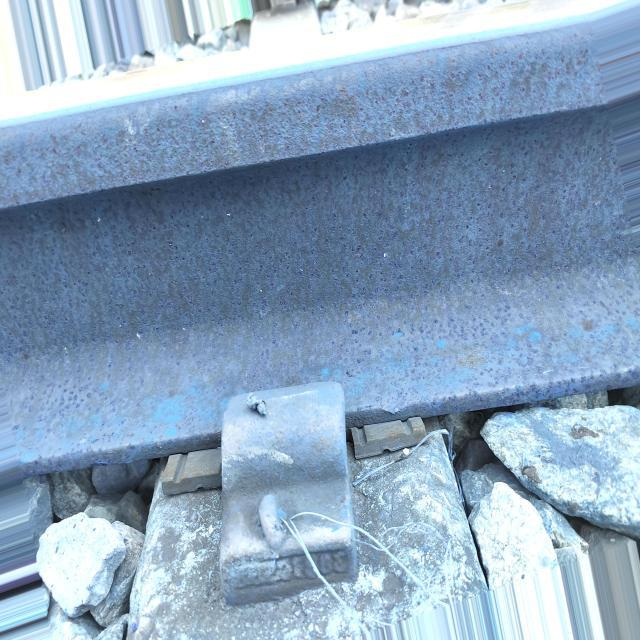Missing Fastener: (183, 357, 389, 631)
